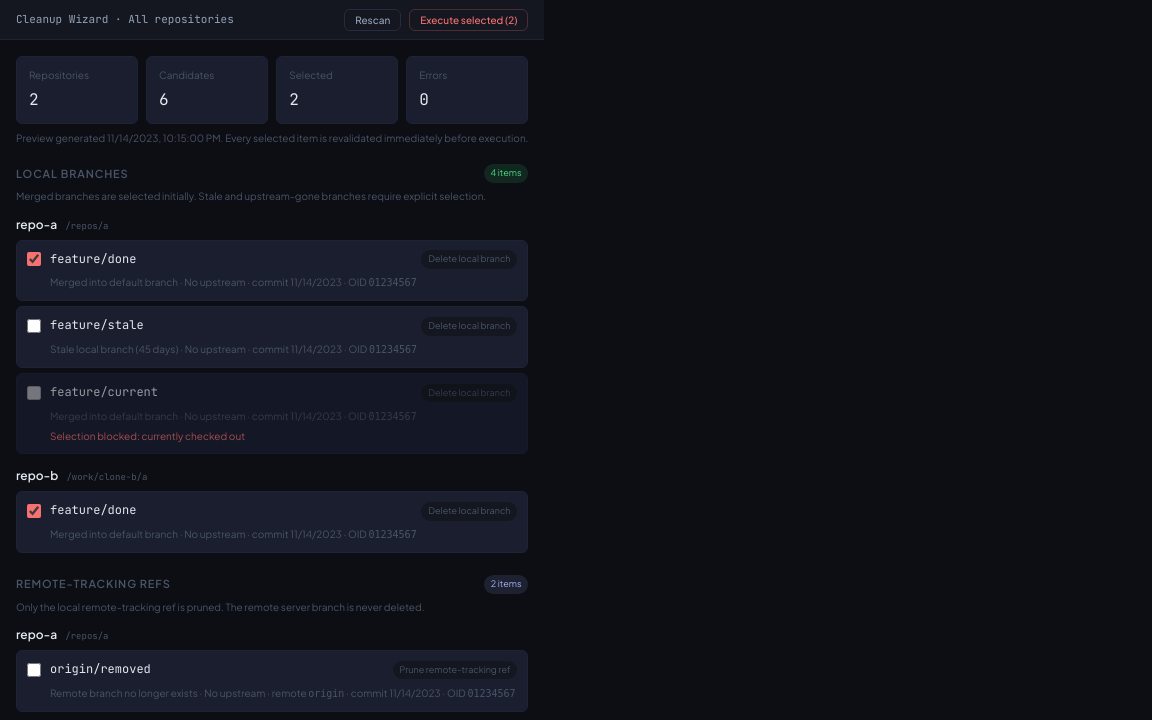
it: Cleanup — 確認と実行結果 › 選択対象を一括 execute し、部分成功・skip・失敗を表示して再 preview する
Click the checkbox named "Select repo-a /repos/a feature/stale": (34, 326) left=27, top=319, right=41, bottom=333
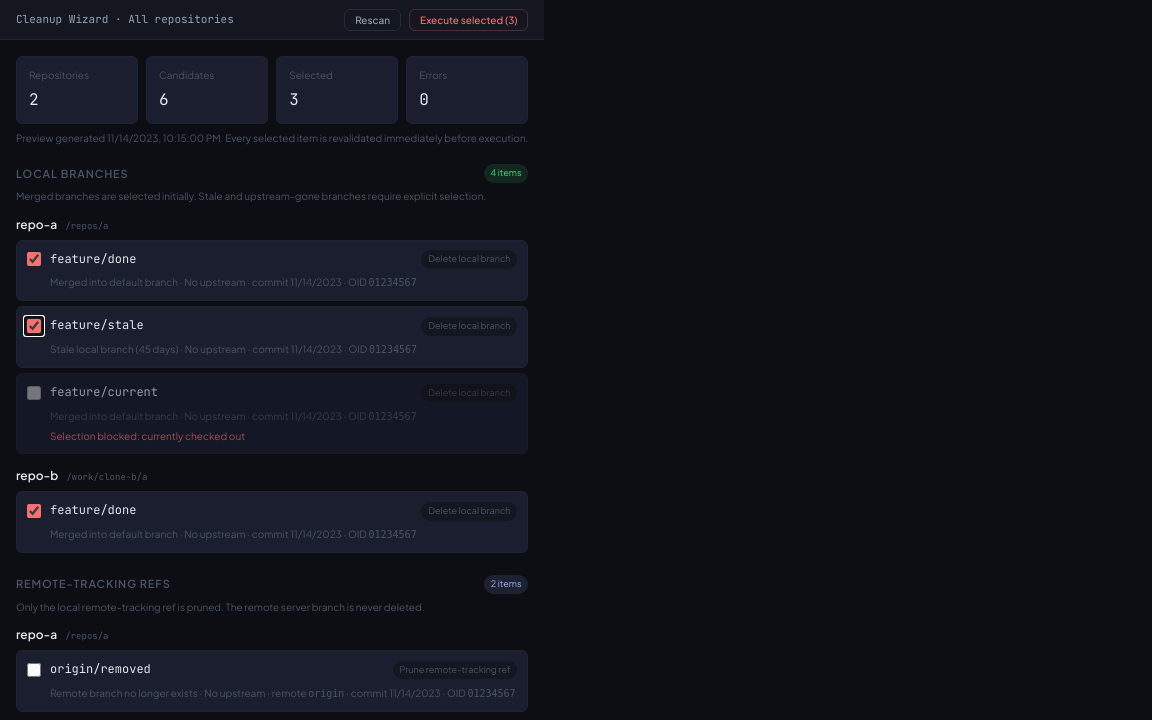
Click the button "Execute selected (3)": (469, 20) left=409, top=8, right=528, bottom=30
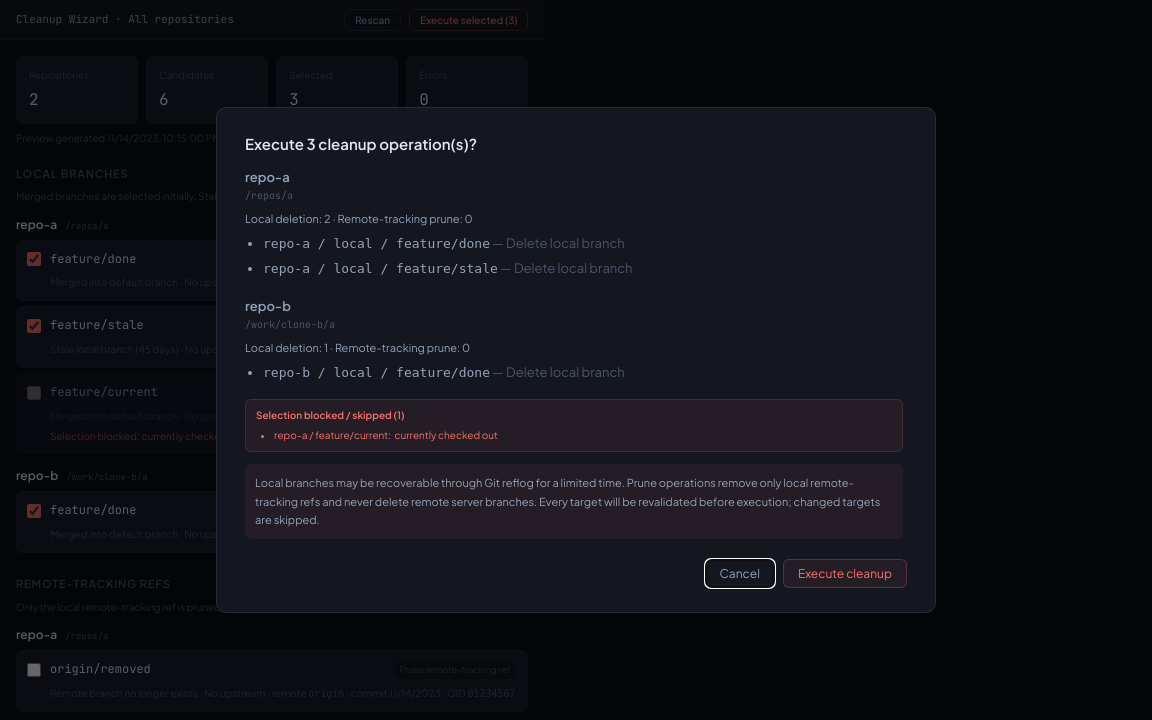
Click the button "Execute cleanup": (845, 573) left=783, top=559, right=907, bottom=588
(page scrolled)
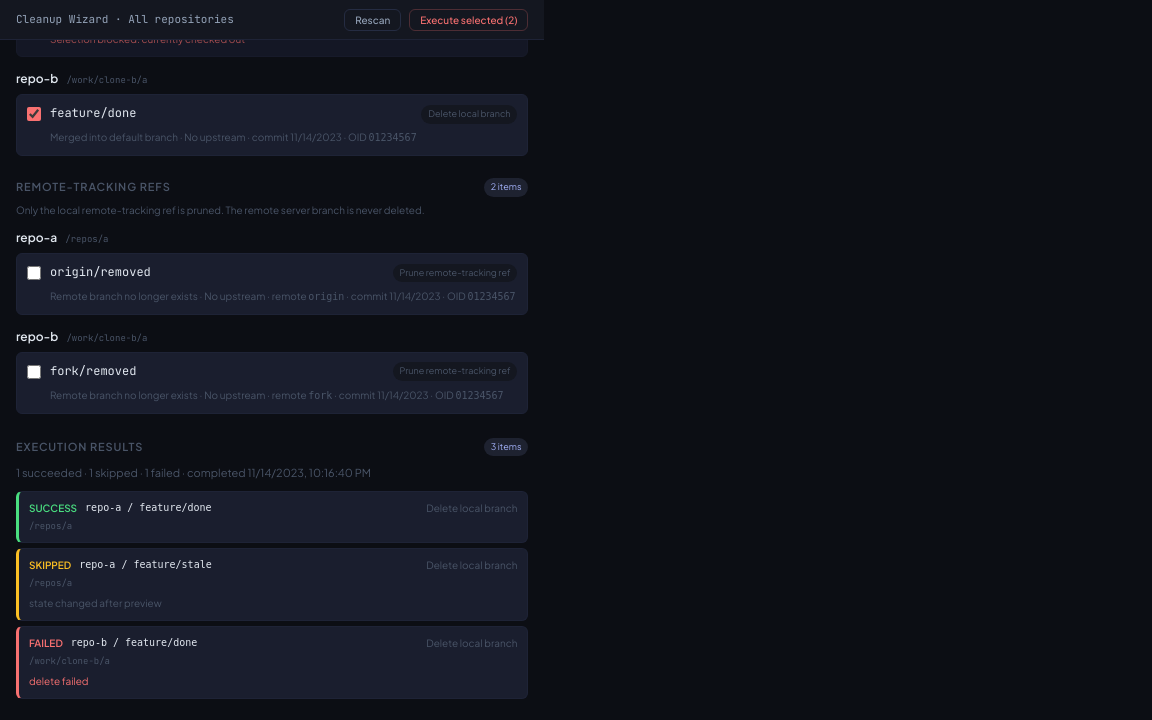
Expected: the text "/work/clone-b/a" below "state changed after preview" is shown, left=29, top=655, right=110, bottom=667
Expected: the text "1 succeeded · 1 skipped · 1 failed · completed" is shown, left=16, top=466, right=371, bottom=479
Expected: the text "/repos/a" is shown 2 times, left=29, top=520, right=72, bottom=532; left=29, top=577, right=72, bottom=589
